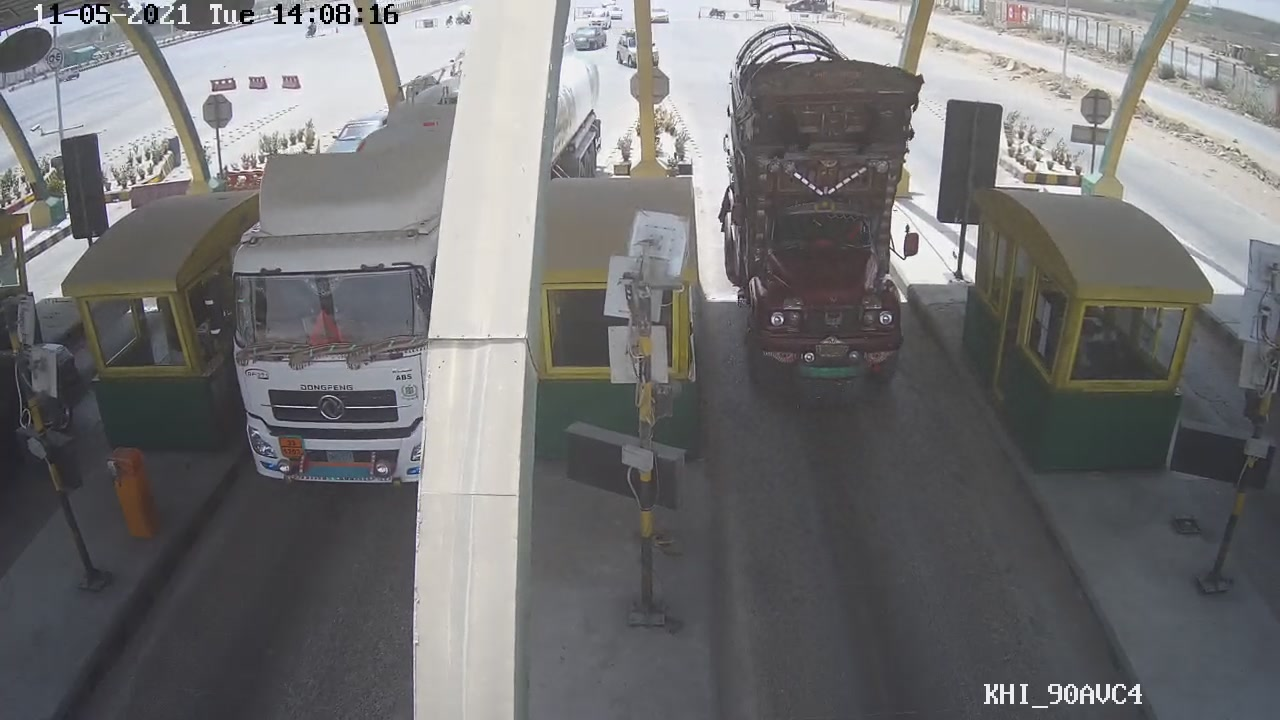F5: (722, 26, 932, 411)
